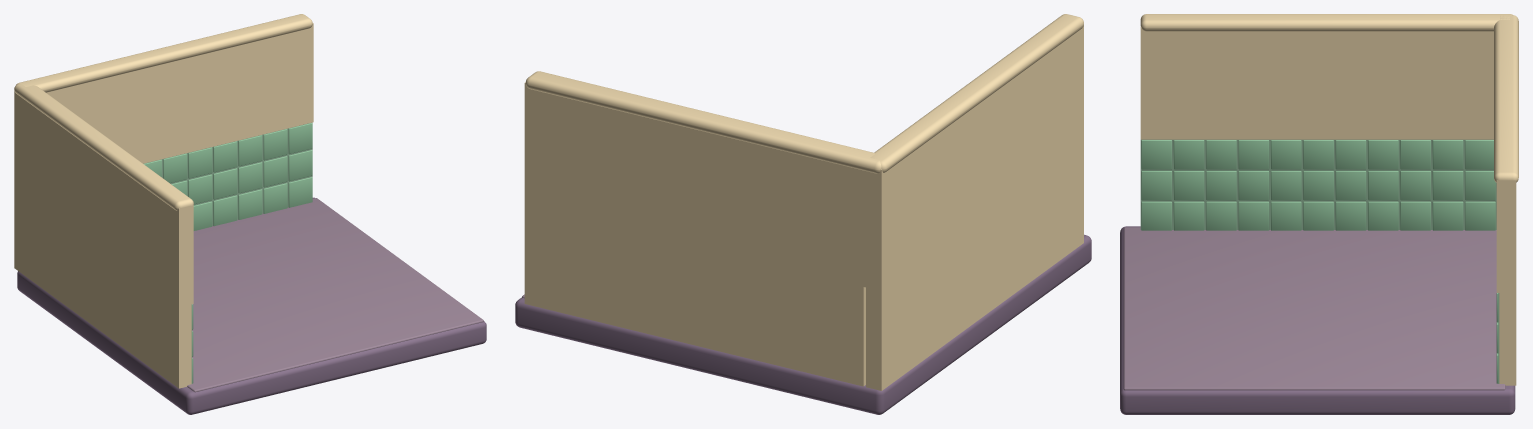
Rendered from room_shell.glb.
3 views of the same model, side by side, from view 1: azimuth 30°, elevation 25°; view 2: azimuth 150°, elevation 25°; view 3: azimuth 270°, elevation 25° (orthographic). The views are drawn at different scales.
Visible parts, largest first — view 1: walls, floor_base, wall_tiles; view 2: walls, floor_base; view 3: floor_base, walls, wall_tiles.
Part boxes in pixels (x1,y1,x2,y2): walls: (14, 14, 313, 388); floor_base: (17, 197, 486, 414); wall_tiles: (143, 122, 312, 383); walls: (524, 14, 1083, 390); floor_base: (515, 234, 1091, 414); floor_base: (1120, 226, 1515, 414); walls: (1140, 14, 1518, 385); wall_tiles: (1140, 139, 1499, 383).
Bounding box in the file's own units: 4.49 × 2.94 × 4.49.
